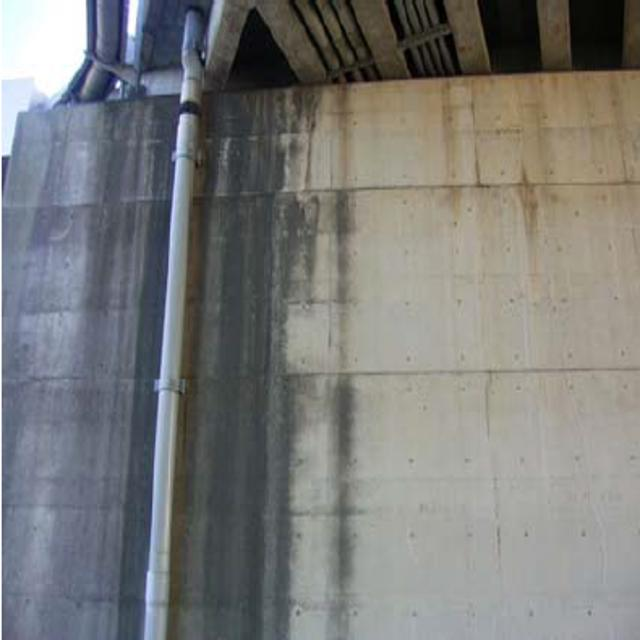leakage: (93, 107, 304, 640)
